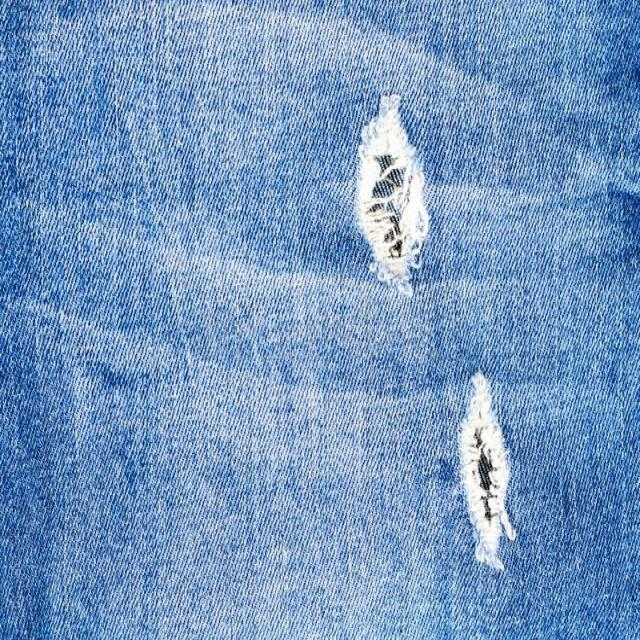Hole: (356, 94, 430, 296), (460, 373, 517, 573)
